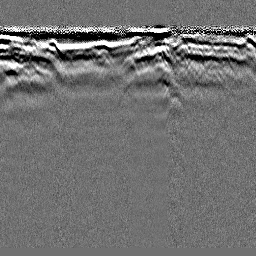cavity: (117, 55, 139, 75)
